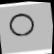no answer: (6, 8, 37, 40)
